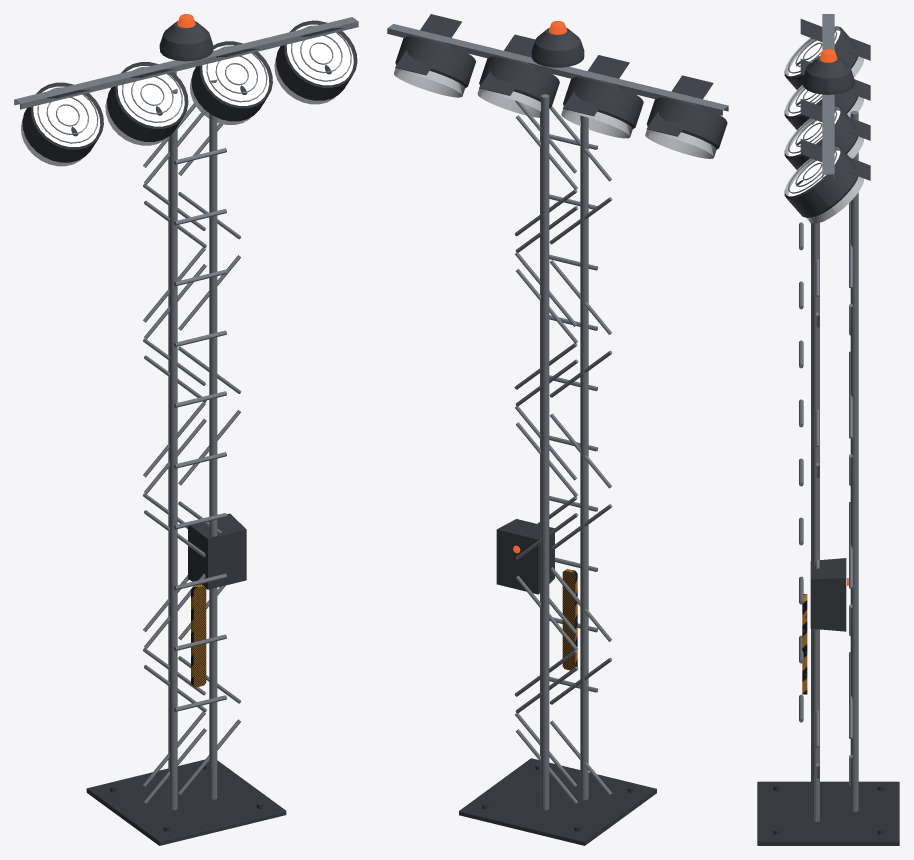
The model's file is foundry_dress_lightrig.glb.
3 renders of one model, left to right at view 1: azimuth 30°, elevation 25°; view 2: azimuth 150°, elevation 25°; view 3: azimuth 270°, elevation 25°, orthographic. The views are drawn at different scales.
Visible parts, largest first — view 1: light_mast, light_base, light_arm, light_box, light_rungs, light_lens3, light_lens0, light_lens1, light_lens2, light_cap, light_hood0, light_hood1 (+3 smaller); view 2: light_mast, light_base, light_arm, light_box, light_hood1, light_hood3, light_hood0, light_hood2, light_rungs, light_cap, light_collar, light_reflector0 (+7 smaller); view 3: light_mast, light_base, light_box, light_hood3, light_cap, light_arm, light_rungs, light_hood2, light_reflector3, light_hood0, light_visor3, light_visor0 (+10 smaller).
Part boxes in pixels (left/top/right/bottom): light_mast: left=143, top=71, right=241, bottom=809; light_base: left=86, top=759, right=286, bottom=845; light_arm: left=14, top=17, right=358, bottom=109; light_box: left=188, top=513, right=246, bottom=589; light_rungs: left=174, top=148, right=226, bottom=711; light_lens3: left=286, top=24, right=353, bottom=85; light_lens0: left=33, top=86, right=100, bottom=146; light_lens1: left=117, top=66, right=184, bottom=126; light_lens2: left=202, top=45, right=269, bottom=105; light_cap: left=159, top=21, right=213, bottom=61; light_hood0: left=22, top=82, right=103, bottom=162; light_hood1: left=107, top=62, right=188, bottom=141; light_mast: left=514, top=94, right=612, bottom=810; light_base: left=459, top=758, right=656, bottom=845; light_arm: left=387, top=24, right=728, bottom=115; light_box: left=496, top=519, right=554, bottom=594; light_hood1: left=563, top=76, right=643, bottom=128; light_hood3: left=395, top=35, right=475, bottom=88; light_hood0: left=647, top=97, right=727, bottom=149; light_hood2: left=479, top=56, right=559, bottom=108; light_rungs: left=549, top=134, right=597, bottom=692; light_cap: left=531, top=28, right=584, bottom=67; light_collar: left=562, top=569, right=577, bottom=670; light_reflector0: left=645, top=97, right=716, bottom=158; light_mast: left=811, top=102, right=858, bottom=821; light_base: left=757, top=781, right=899, bottom=845; light_box: left=810, top=558, right=846, bottom=631; light_hood3: left=784, top=146, right=858, bottom=217; light_cap: left=802, top=56, right=854, bottom=94; light_arm: left=822, top=14, right=834, bottom=179; light_rungs: left=799, top=222, right=803, bottom=722; light_hood2: left=784, top=106, right=858, bottom=169; light_reflector3: left=785, top=146, right=863, bottom=223; light_hood0: left=784, top=26, right=858, bottom=89; light_visor3: left=800, top=139, right=870, bottom=180; light_visor0: left=800, top=19, right=870, bottom=60.
Size of the model in its own units: 3.2 by 7.14 by 1.2.
7 materials, 1 textured.
